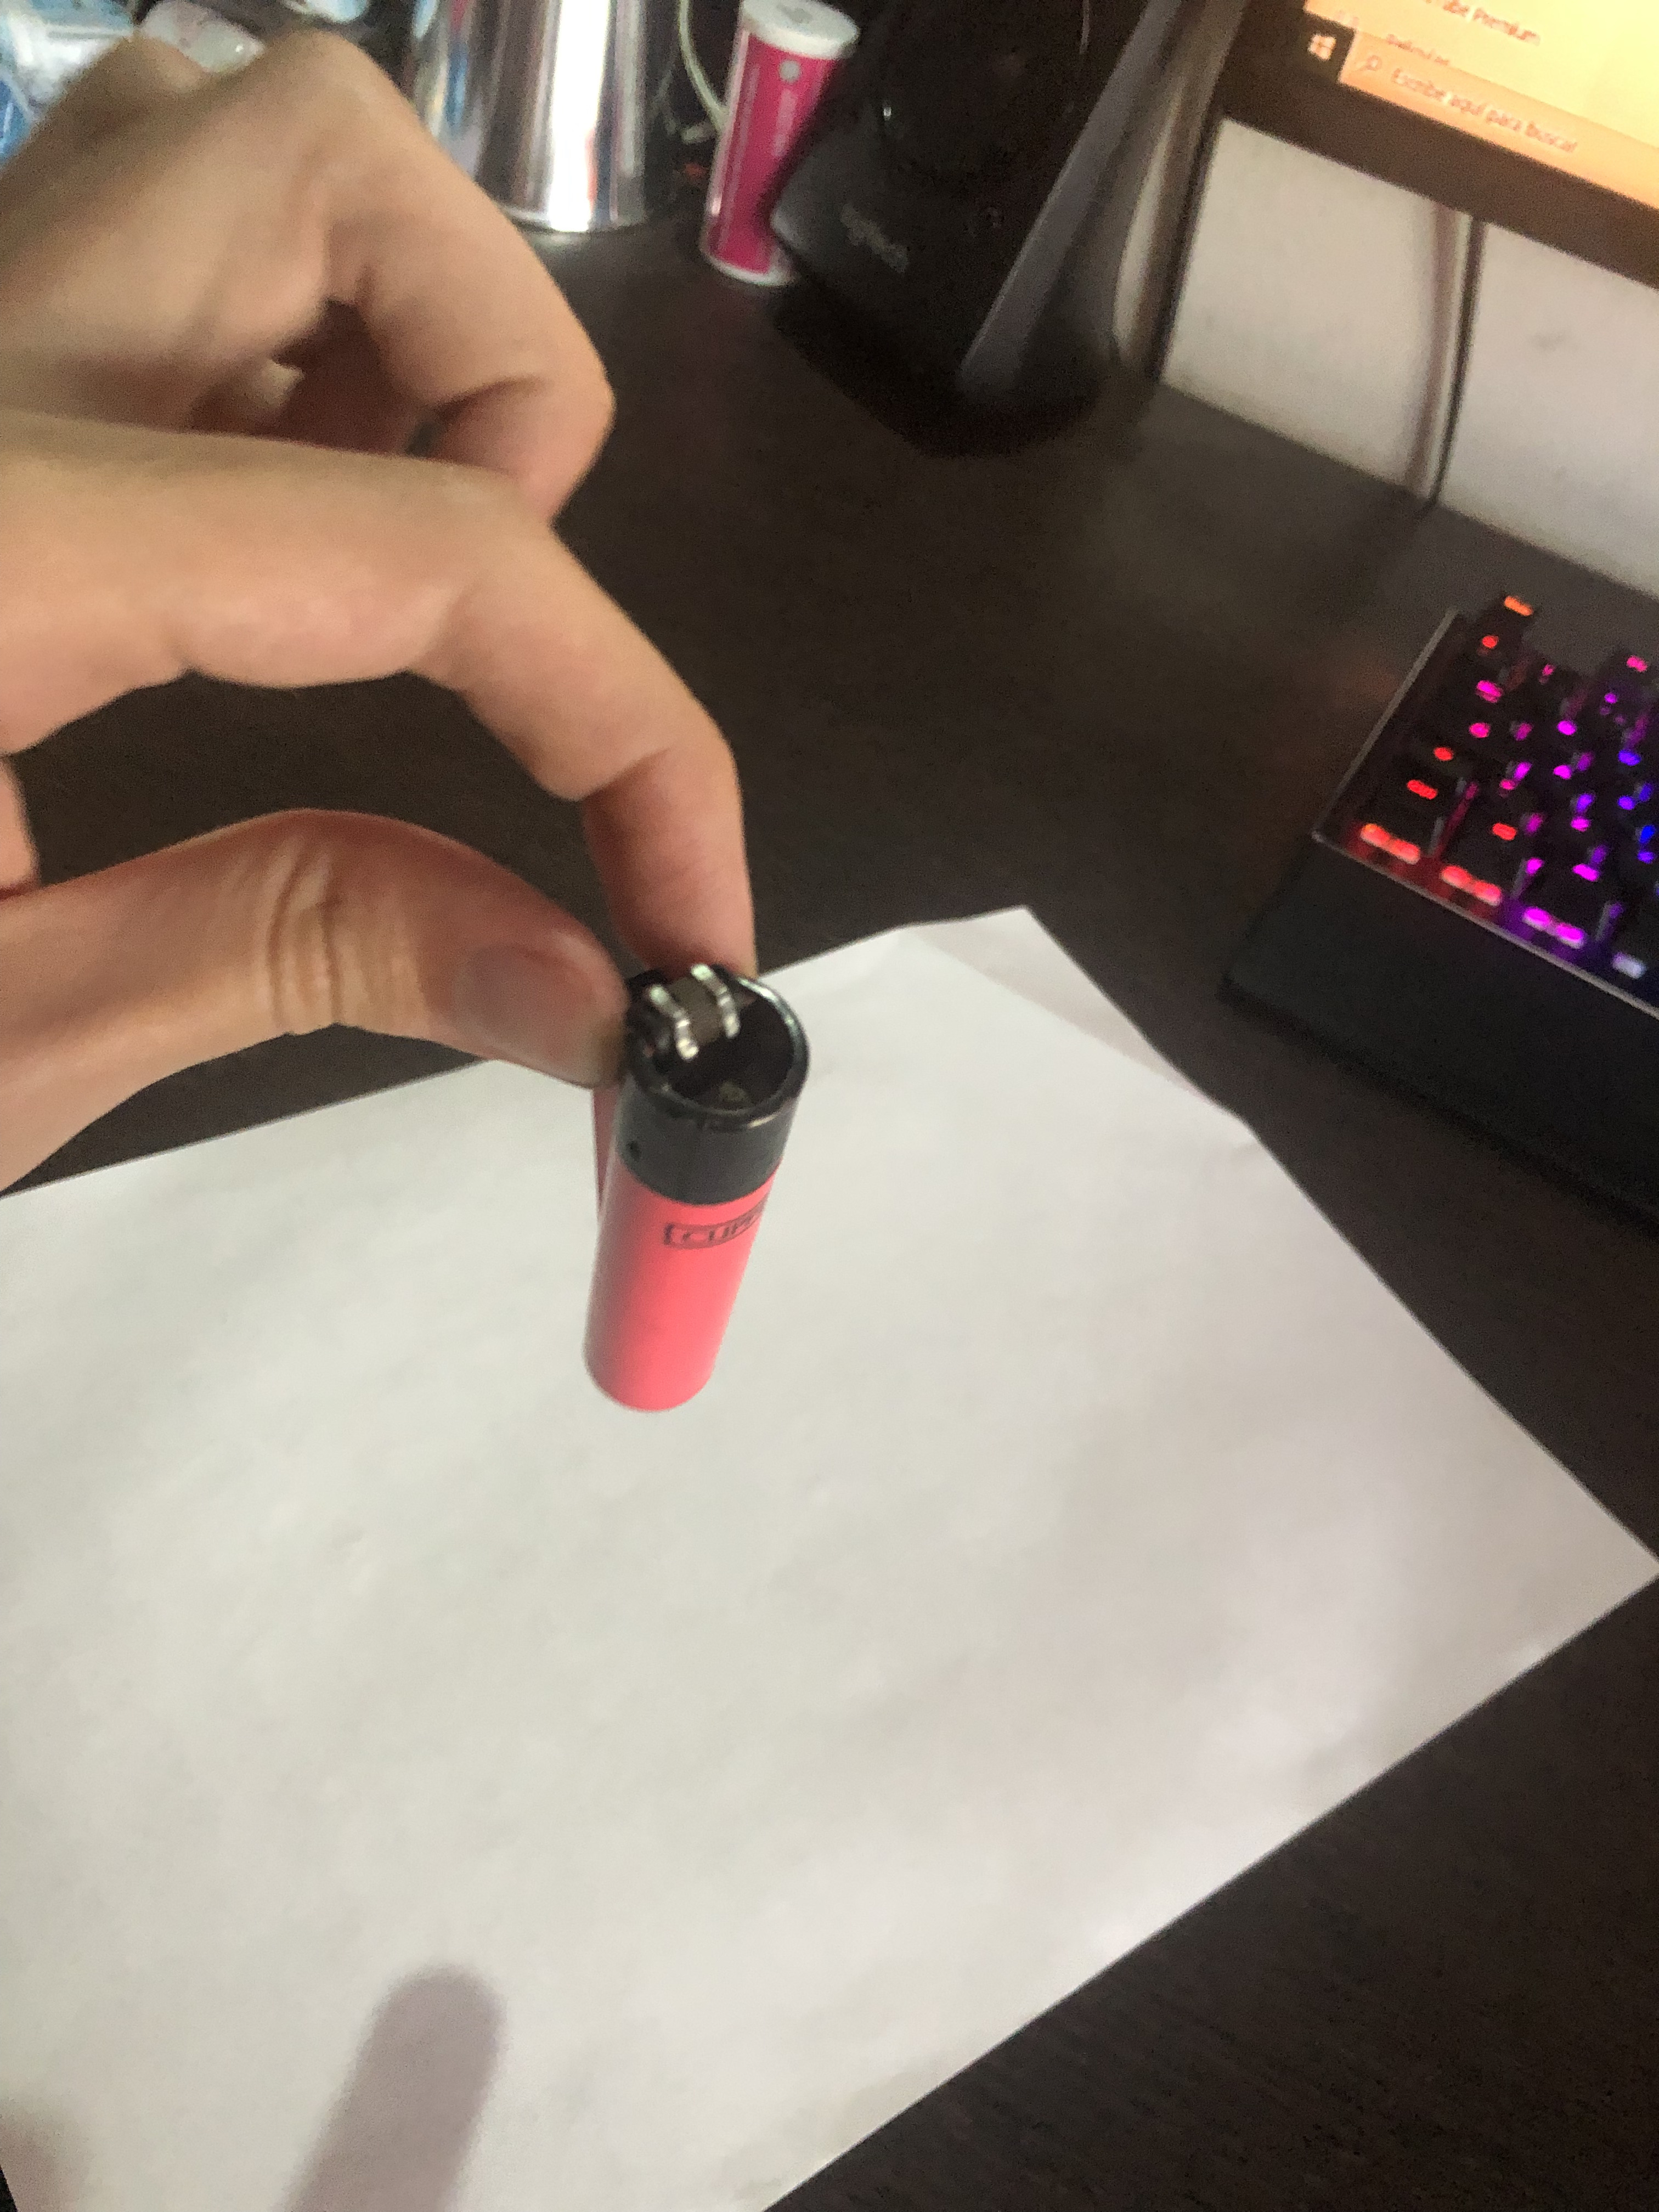Mechero: (561, 960, 826, 1406)
